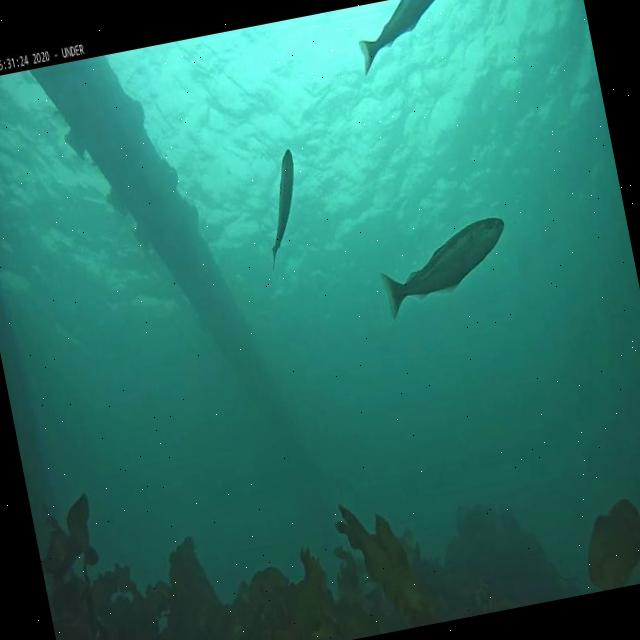fish: (373, 215, 518, 320), (352, 0, 456, 73), (252, 151, 312, 267)
